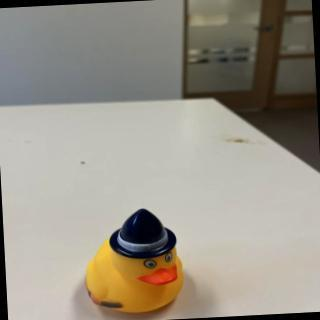duck_specialty: (80, 206, 189, 318)
